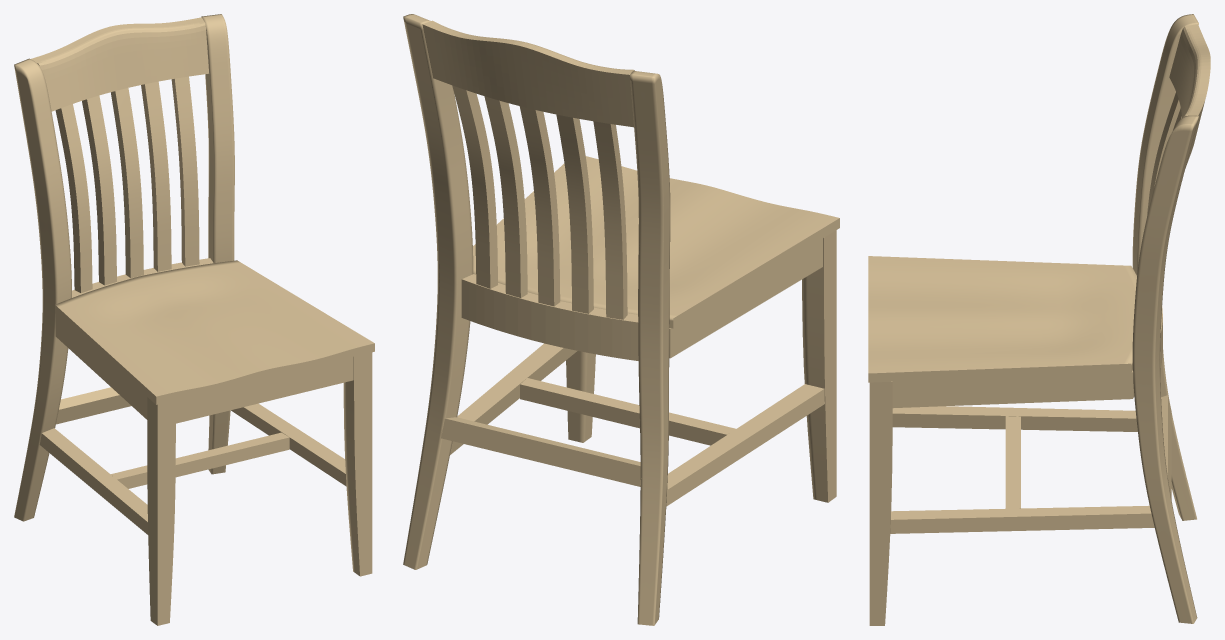
The model's file is ella_chair_f.glb.
3 views of the same model, side by side, from view 1: azimuth 30°, elevation 25°; view 2: azimuth 150°, elevation 25°; view 3: azimuth 270°, elevation 25° (orthographic). The views are drawn at different scales.
Parts seen in each view (by area): view 1: ella_Chair.000_Cube.002, BackLegs.001_Cube.003, SeatBackSupports.003_Cube.018, FrontLegs.001_Cube.006, ChairBack.001_Cube.014, SideSupports.001_Cube.009, FrontRail.001_Cube.007, CenterSupport.001_Cube.011, SideRails.001_Cube.005, BackSupport.001_Cube.012, BackRail.001_Cube.013; view 2: BackLegs.001_Cube.003, SeatBackSupports.003_Cube.018, ella_Chair.000_Cube.002, ChairBack.001_Cube.014, FrontLegs.001_Cube.006, SideSupports.001_Cube.009, BackRail.001_Cube.013, BackSupport.001_Cube.012, SideRails.001_Cube.005, CenterSupport.001_Cube.011; view 3: ella_Chair.000_Cube.002, BackLegs.001_Cube.003, SideSupports.001_Cube.009, SideRails.001_Cube.005, FrontLegs.001_Cube.006, ChairBack.001_Cube.014, CenterSupport.001_Cube.011, SeatBackSupports.003_Cube.018, BackSupport.001_Cube.012.
Part boxes in pixels (x1=…): ella_Chair.000_Cube.002: x1=55, y1=260, x2=374, y2=404; BackLegs.001_Cube.003: x1=14, y1=14, x2=234, y2=521; SeatBackSupports.003_Cube.018: x1=55, y1=76, x2=199, y2=292; FrontLegs.001_Cube.006: x1=147, y1=352, x2=372, y2=625; ChairBack.001_Cube.014: x1=31, y1=17, x2=208, y2=111; SideSupports.001_Cube.009: x1=39, y1=403, x2=346, y2=534; FrontRail.001_Cube.007: x1=176, y1=357, x2=353, y2=423; CenterSupport.001_Cube.011: x1=111, y1=432, x2=289, y2=488; SideRails.001_Cube.005: x1=55, y1=314, x2=147, y2=419; BackSupport.001_Cube.012: x1=56, y1=387, x2=131, y2=424; BackRail.001_Cube.013: x1=72, y1=258, x2=213, y2=297; BackLegs.001_Cube.003: x1=403, y1=14, x2=670, y2=625; SeatBackSupports.003_Cube.018: x1=452, y1=85, x2=627, y2=319; ella_Chair.000_Cube.002: x1=473, y1=156, x2=839, y2=328; ChairBack.001_Cube.014: x1=422, y1=20, x2=634, y2=127; FrontLegs.001_Cube.006: x1=566, y1=230, x2=836, y2=502; SideSupports.001_Cube.009: x1=450, y1=343, x2=824, y2=506; BackRail.001_Cube.013: x1=461, y1=274, x2=638, y2=360; BackSupport.001_Cube.012: x1=441, y1=417, x2=641, y2=486; SideRails.001_Cube.005: x1=669, y1=238, x2=822, y2=358; CenterSupport.001_Cube.011: x1=520, y1=378, x2=735, y2=445; ella_Chair.000_Cube.002: x1=868, y1=256, x2=1136, y2=382; BackLegs.001_Cube.003: x1=1132, y1=14, x2=1198, y2=623; SideSupports.001_Cube.009: x1=890, y1=406, x2=1154, y2=533; SideRails.001_Cube.005: x1=892, y1=370, x2=1134, y2=408; FrontLegs.001_Cube.006: x1=869, y1=381, x2=892, y2=625; ChairBack.001_Cube.014: x1=1169, y1=24, x2=1210, y2=161; CenterSupport.001_Cube.011: x1=1005, y1=416, x2=1020, y2=508; SeatBackSupports.003_Cube.018: x1=1147, y1=92, x2=1189, y2=326; BackSupport.001_Cube.012: x1=1161, y1=395, x2=1171, y2=499.
Bounding box in the file's own units: 0.46 × 0.925 × 0.5669.
